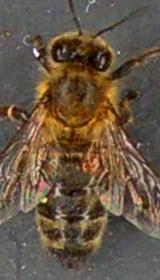varroa_mite: (79, 149, 105, 178)
